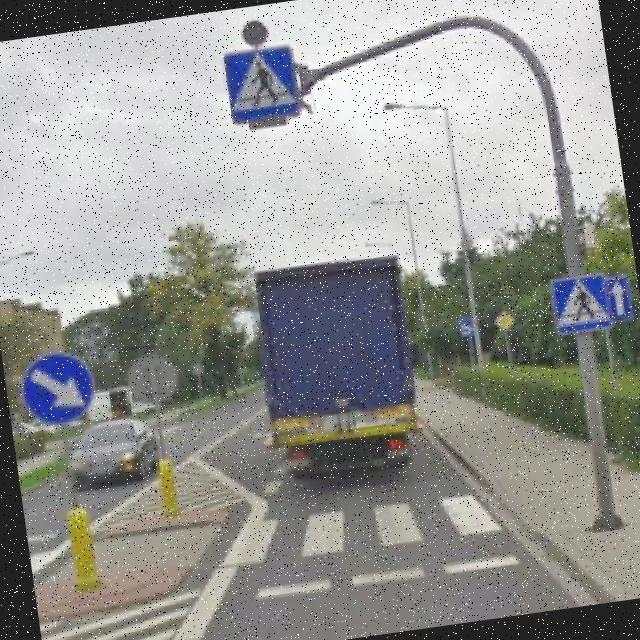Droga z pierwszenstwem: (491, 309, 518, 334)
Przejscie dla pieszych: (218, 41, 304, 126), (546, 270, 616, 336)
